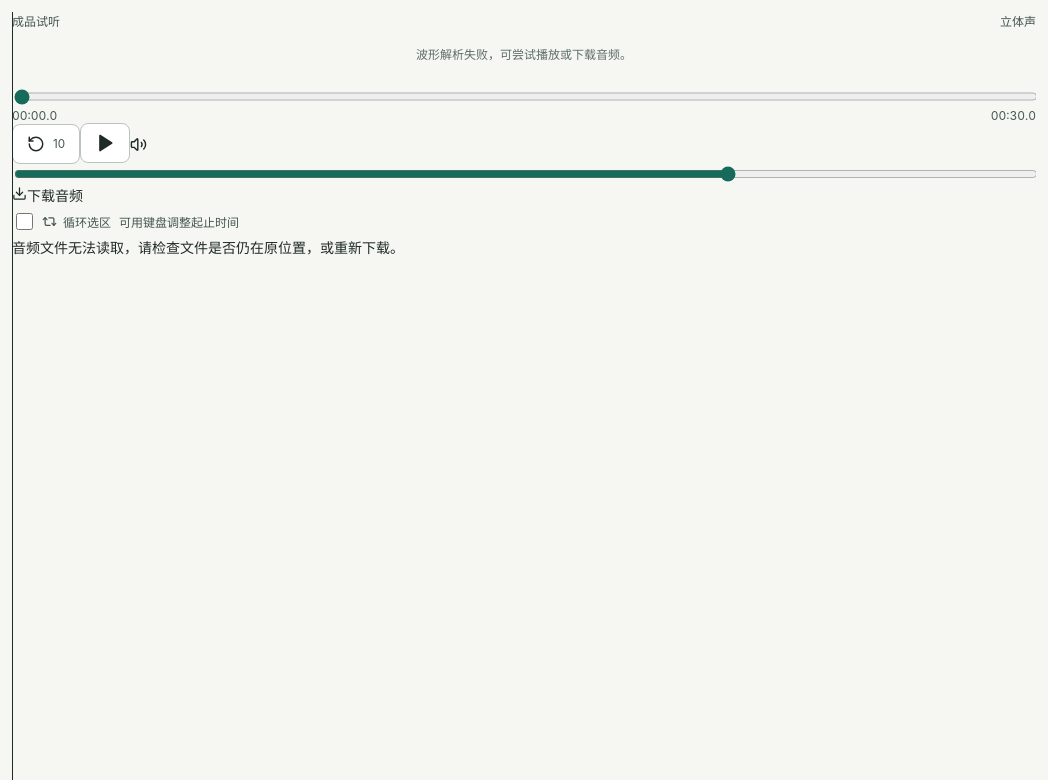
audio transport › leaves a usable retry control after media loading fails
expect the message "音频文件无法读取，请检查文件是否仍在原位置，或重新下载。" is shown: met, box [12,239,404,256]
Step 1. Click the button named "播放" → click(105, 143), box [80,123,130,163]
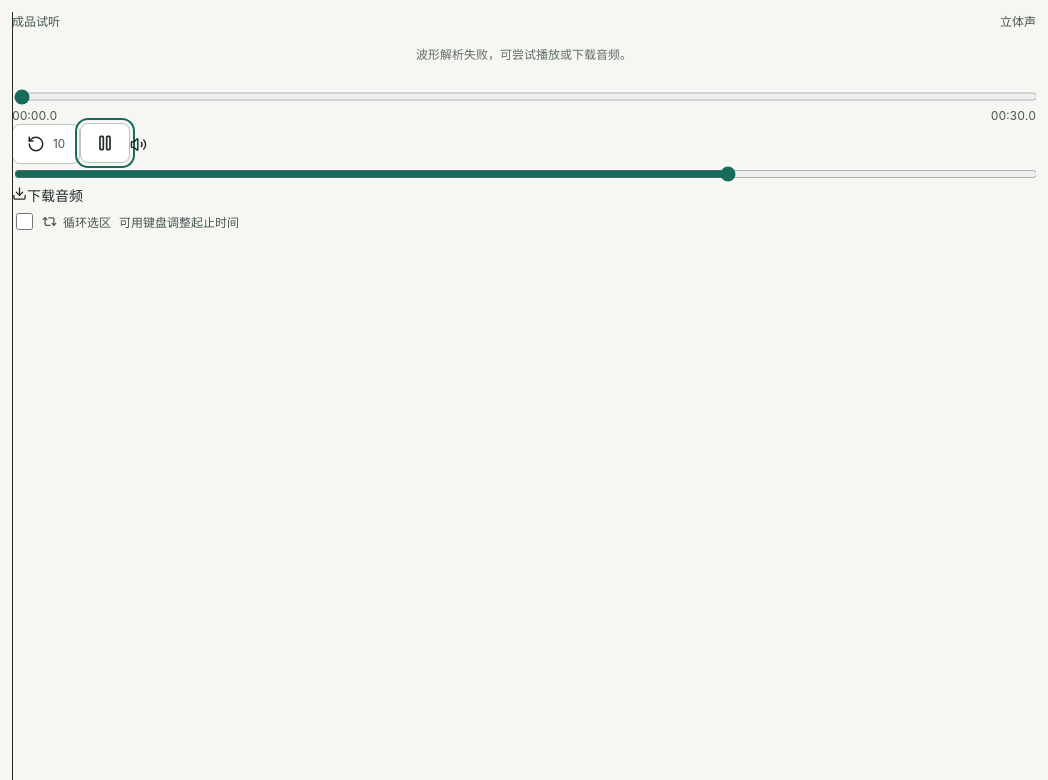
expect the message "音频文件无法读取，请检查文件是否仍在原位置，或重新下载。" is gone: met
